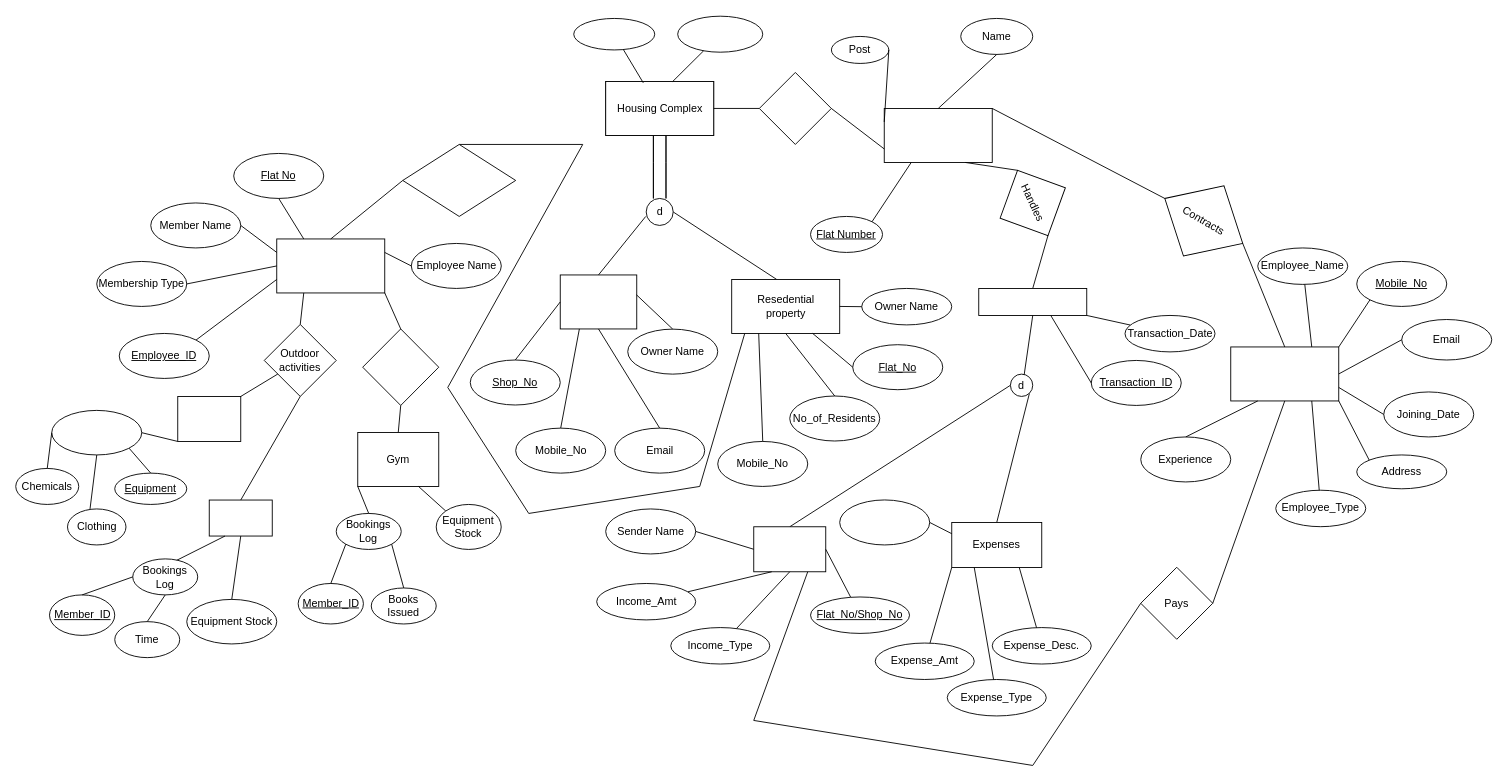
The diagram is 1508 pixels wide and 782 high, and some of its shapes have lost their labels. The shapes that lost their labels are listed below. From the top down, each one's centre as x and y in pixels, then its label:
At (x=614, y=34): "Block No".
At (x=720, y=33): "Property ID".
At (x=794, y=108): "Manages".
At (x=937, y=135): "Housing board".
At (x=459, y=180): "Entertainment".
At (x=330, y=265): "Clubhouse".
At (x=598, y=301): "Commercial Property".
At (x=1032, y=301): "Finances".
At (x=400, y=366): "Indoor Activities".
At (x=1284, y=373): "Workforce".
At (x=96, y=432): "Inventory".
At (x=209, y=418): "Swimming pool".
At (x=240, y=517): "Games Area".
At (x=884, y=522): "Receiver Name".
At (x=789, y=549): "Income".
